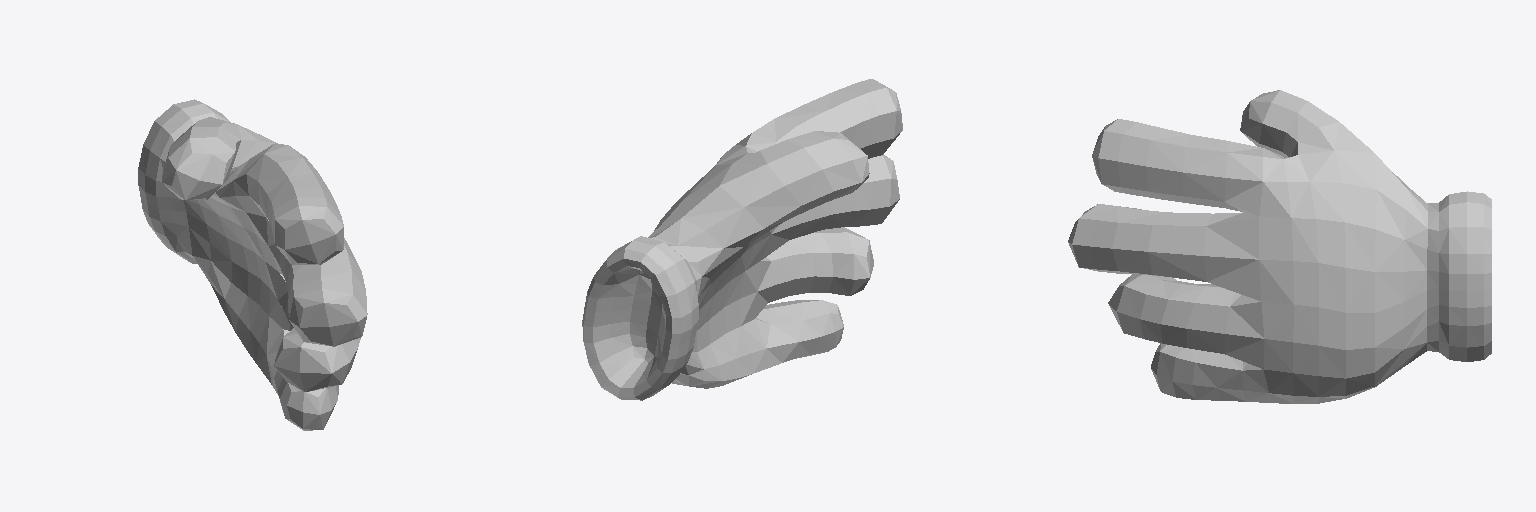
Rendered from leftHand.obj.
3 views of the same model, side by side, from view 1: azimuth 30°, elevation 25°; view 2: azimuth 150°, elevation 25°; view 3: azimuth 270°, elevation 25° (orthographic).
Parts seen in each view (by area): view 1: Mesh.002_Box05; view 2: Mesh.002_Box05; view 3: Mesh.002_Box05.
Part boxes in pixels (left/top/right/bottom): Mesh.002_Box05: left=138, top=99, right=367, bottom=430; Mesh.002_Box05: left=582, top=79, right=902, bottom=400; Mesh.002_Box05: left=1068, top=90, right=1491, bottom=403.
Bounding box in the file's own units: 1.1 × 1.5 × 2.15.